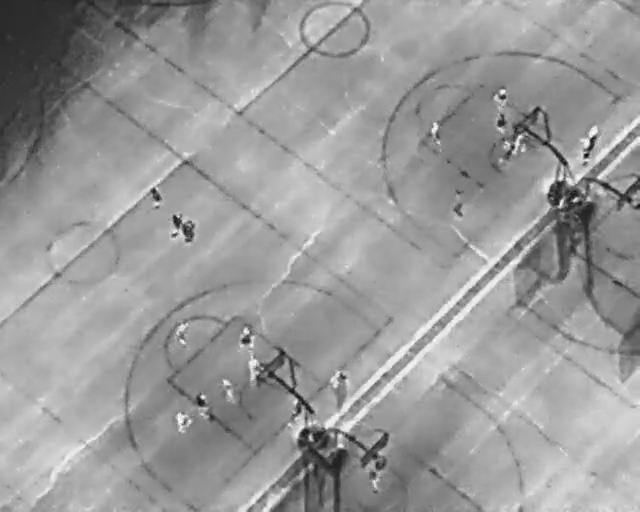Person: (238, 323, 256, 353), (218, 375, 234, 404), (175, 411, 191, 433), (332, 370, 347, 391), (367, 470, 382, 491), (176, 320, 189, 342), (196, 392, 207, 418), (430, 121, 441, 147), (172, 212, 182, 240), (500, 138, 511, 163), (248, 356, 258, 383), (151, 185, 161, 210), (581, 136, 590, 163), (495, 86, 507, 106), (185, 220, 195, 241), (496, 113, 506, 133), (589, 122, 599, 142)
